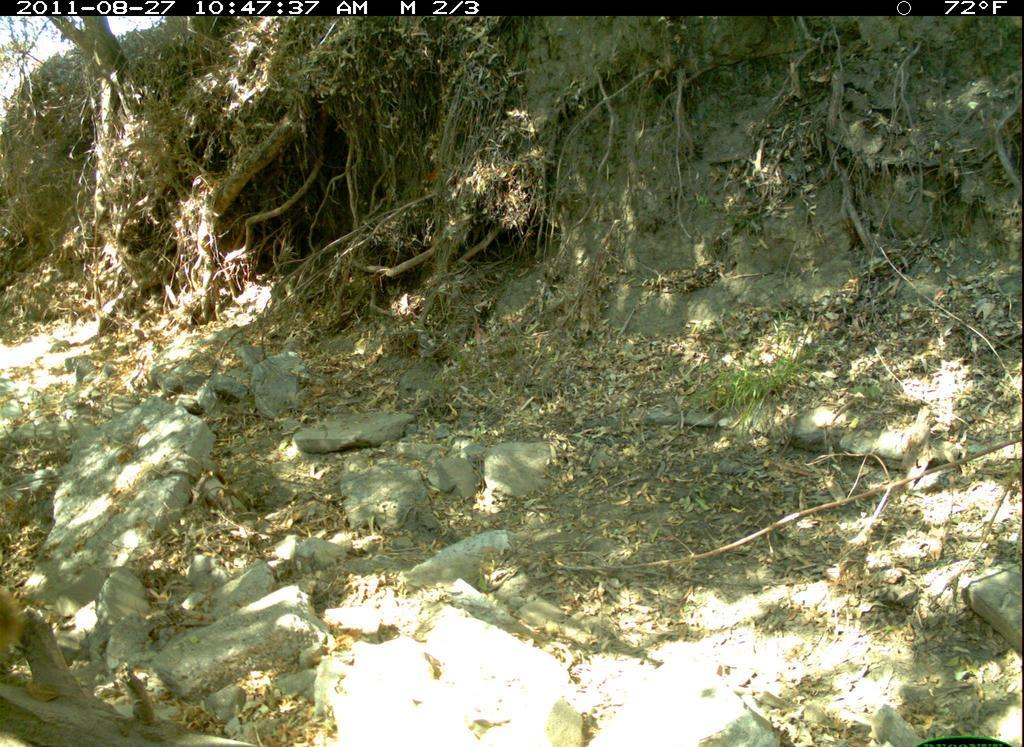squirrel: (1, 575, 38, 679)
